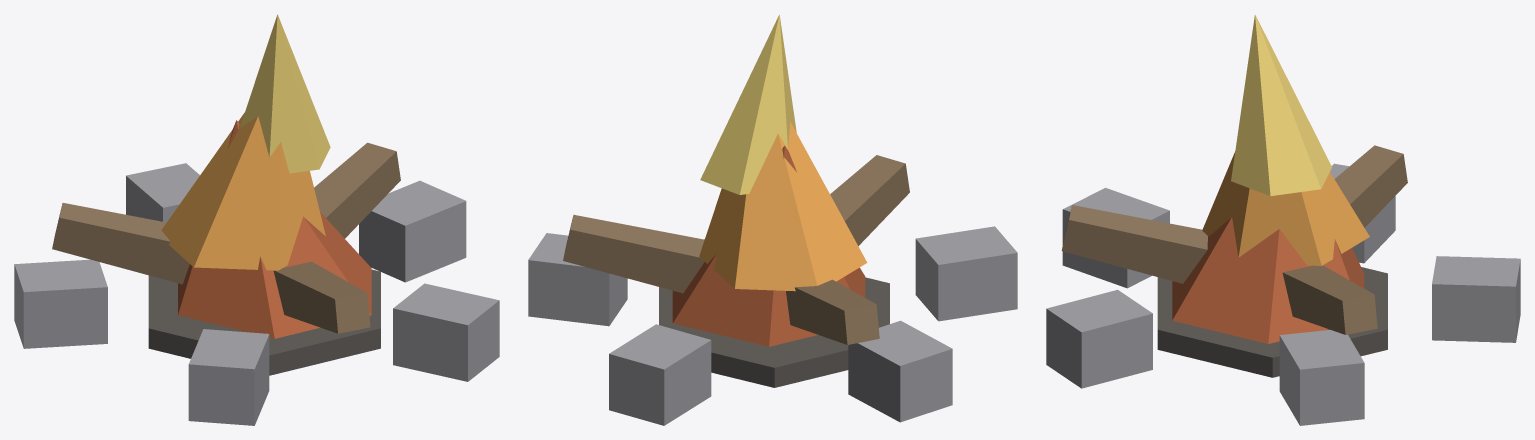
File: fire.glb
3 renders of one model, left to right at view 1: azimuth 30°, elevation 25°; view 2: azimuth 150°, elevation 25°; view 3: azimuth 270°, elevation 25°, orthographic.
Parts seen in each view (by area): view 1: Fire; view 2: Fire; view 3: Fire.
Part boxes in pixels (box(x1,y1,x2,y2)): Fire: box(14, 14, 499, 425); Fire: box(528, 14, 1017, 425); Fire: box(1046, 14, 1520, 425).
Bounding box in the file's own units: 1.1 × 0.77 × 1.07.
